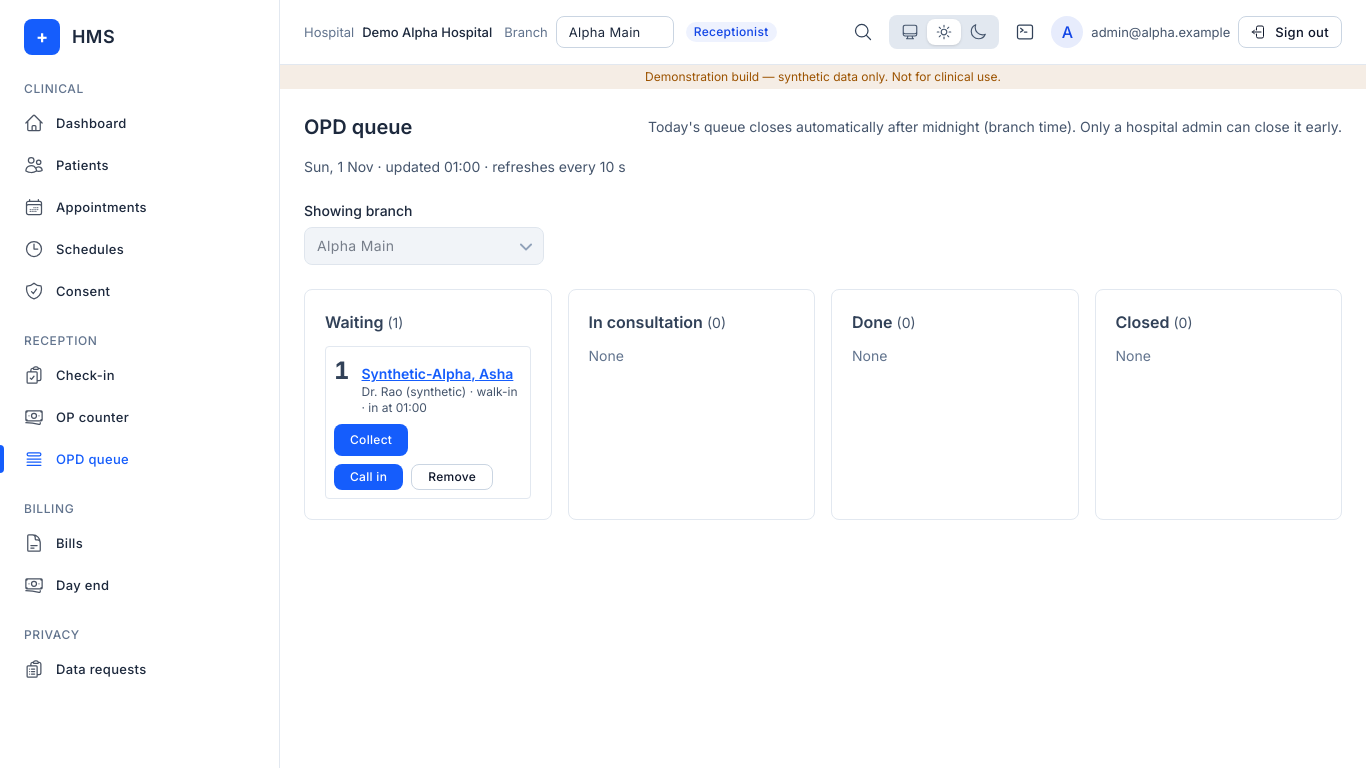
QueueBoardPage › front desk can remove a waiting token; a 409 invalid_transition explains and refreshes
Click the button with aria-label "Remove token 1" at (452, 477), box [411, 464, 493, 490]
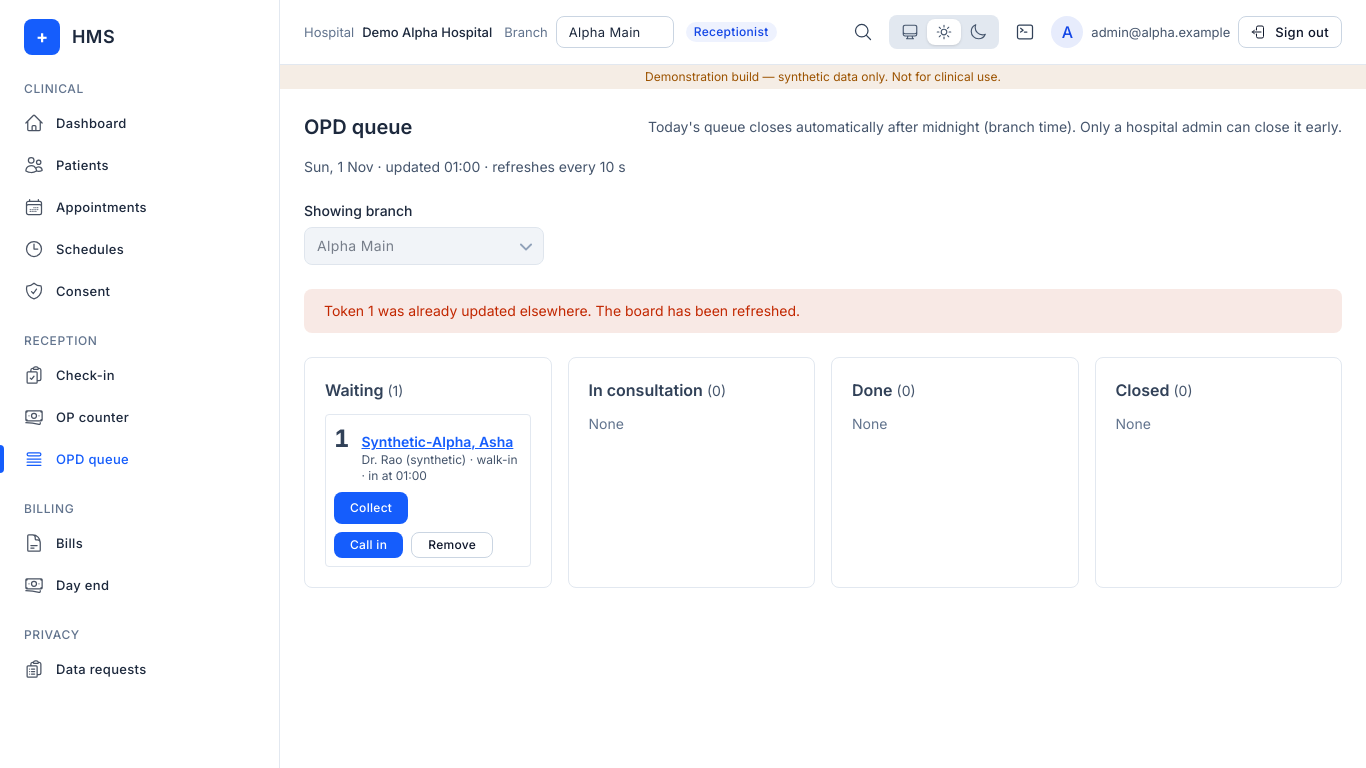
Now the message shows "Token 1 was already updated elsewhere", box [324, 302, 800, 319]
